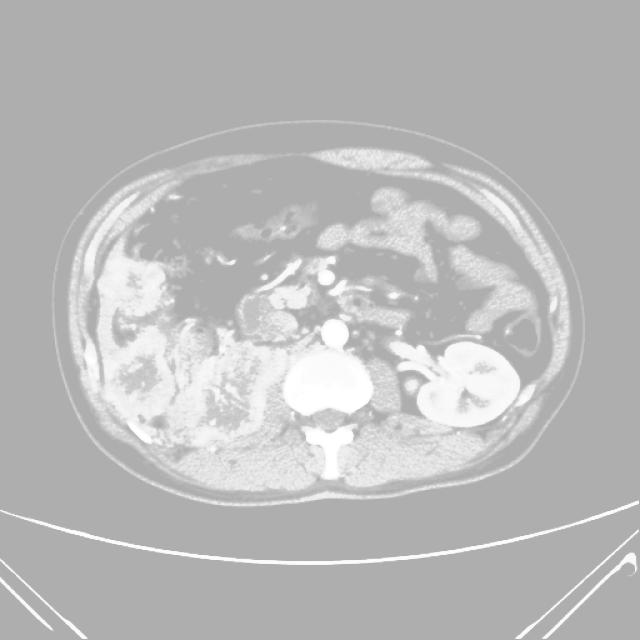TUMOR: (98, 177, 529, 485)
